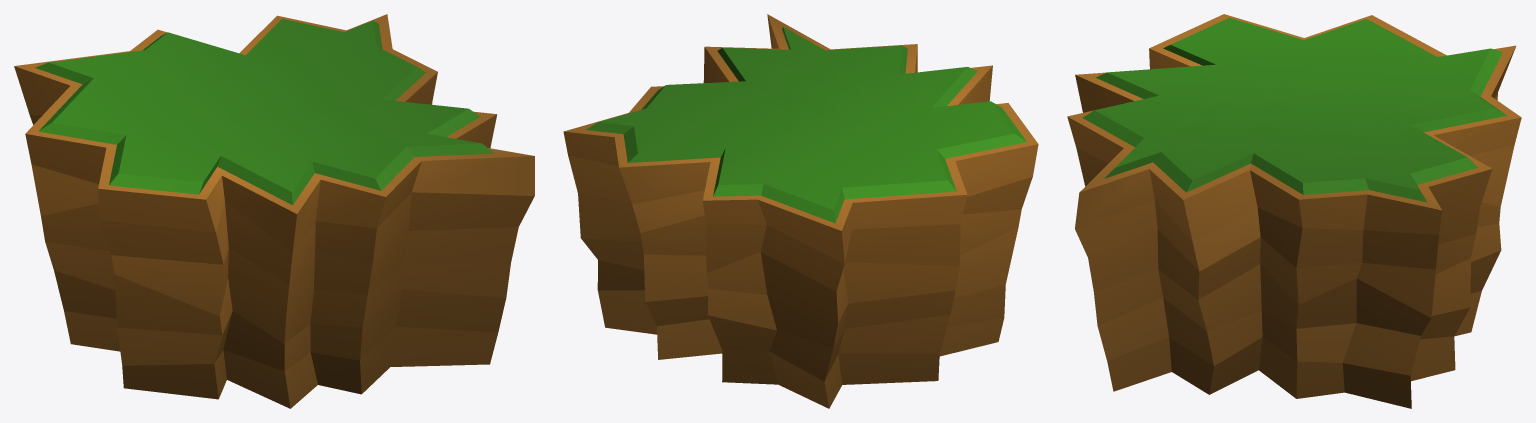
Rendered from cliff.fbx.
3 renders of one model, left to right at view 1: azimuth 30°, elevation 25°; view 2: azimuth 150°, elevation 25°; view 3: azimuth 270°, elevation 25°, orthographic. The views are drawn at different scales.
Parts seen in each view (by area): view 1: Plane; view 2: Plane; view 3: Plane.
Boxes of the visible parts, box(x1,y1,x2,y2) form: Plane: box(14, 14, 534, 408); Plane: box(563, 14, 1038, 408); Plane: box(1067, 14, 1521, 408).
Size of the model in its own units: 20544 by 11078 by 20422.
1 material, 1 textured.
